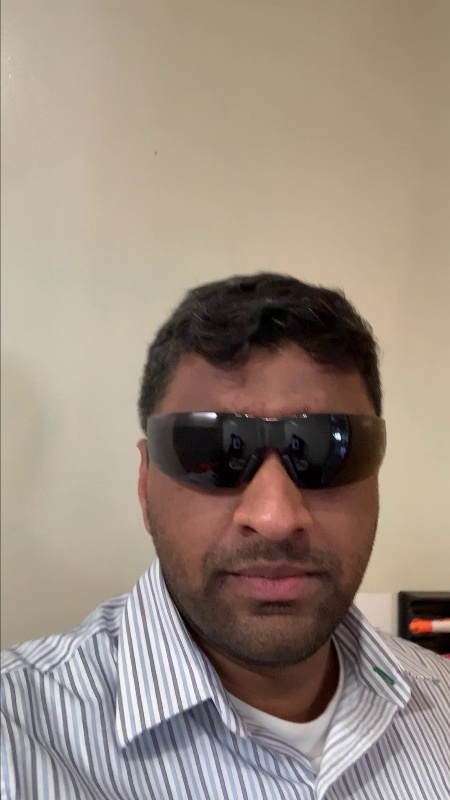glasses: (134, 396, 403, 502)
